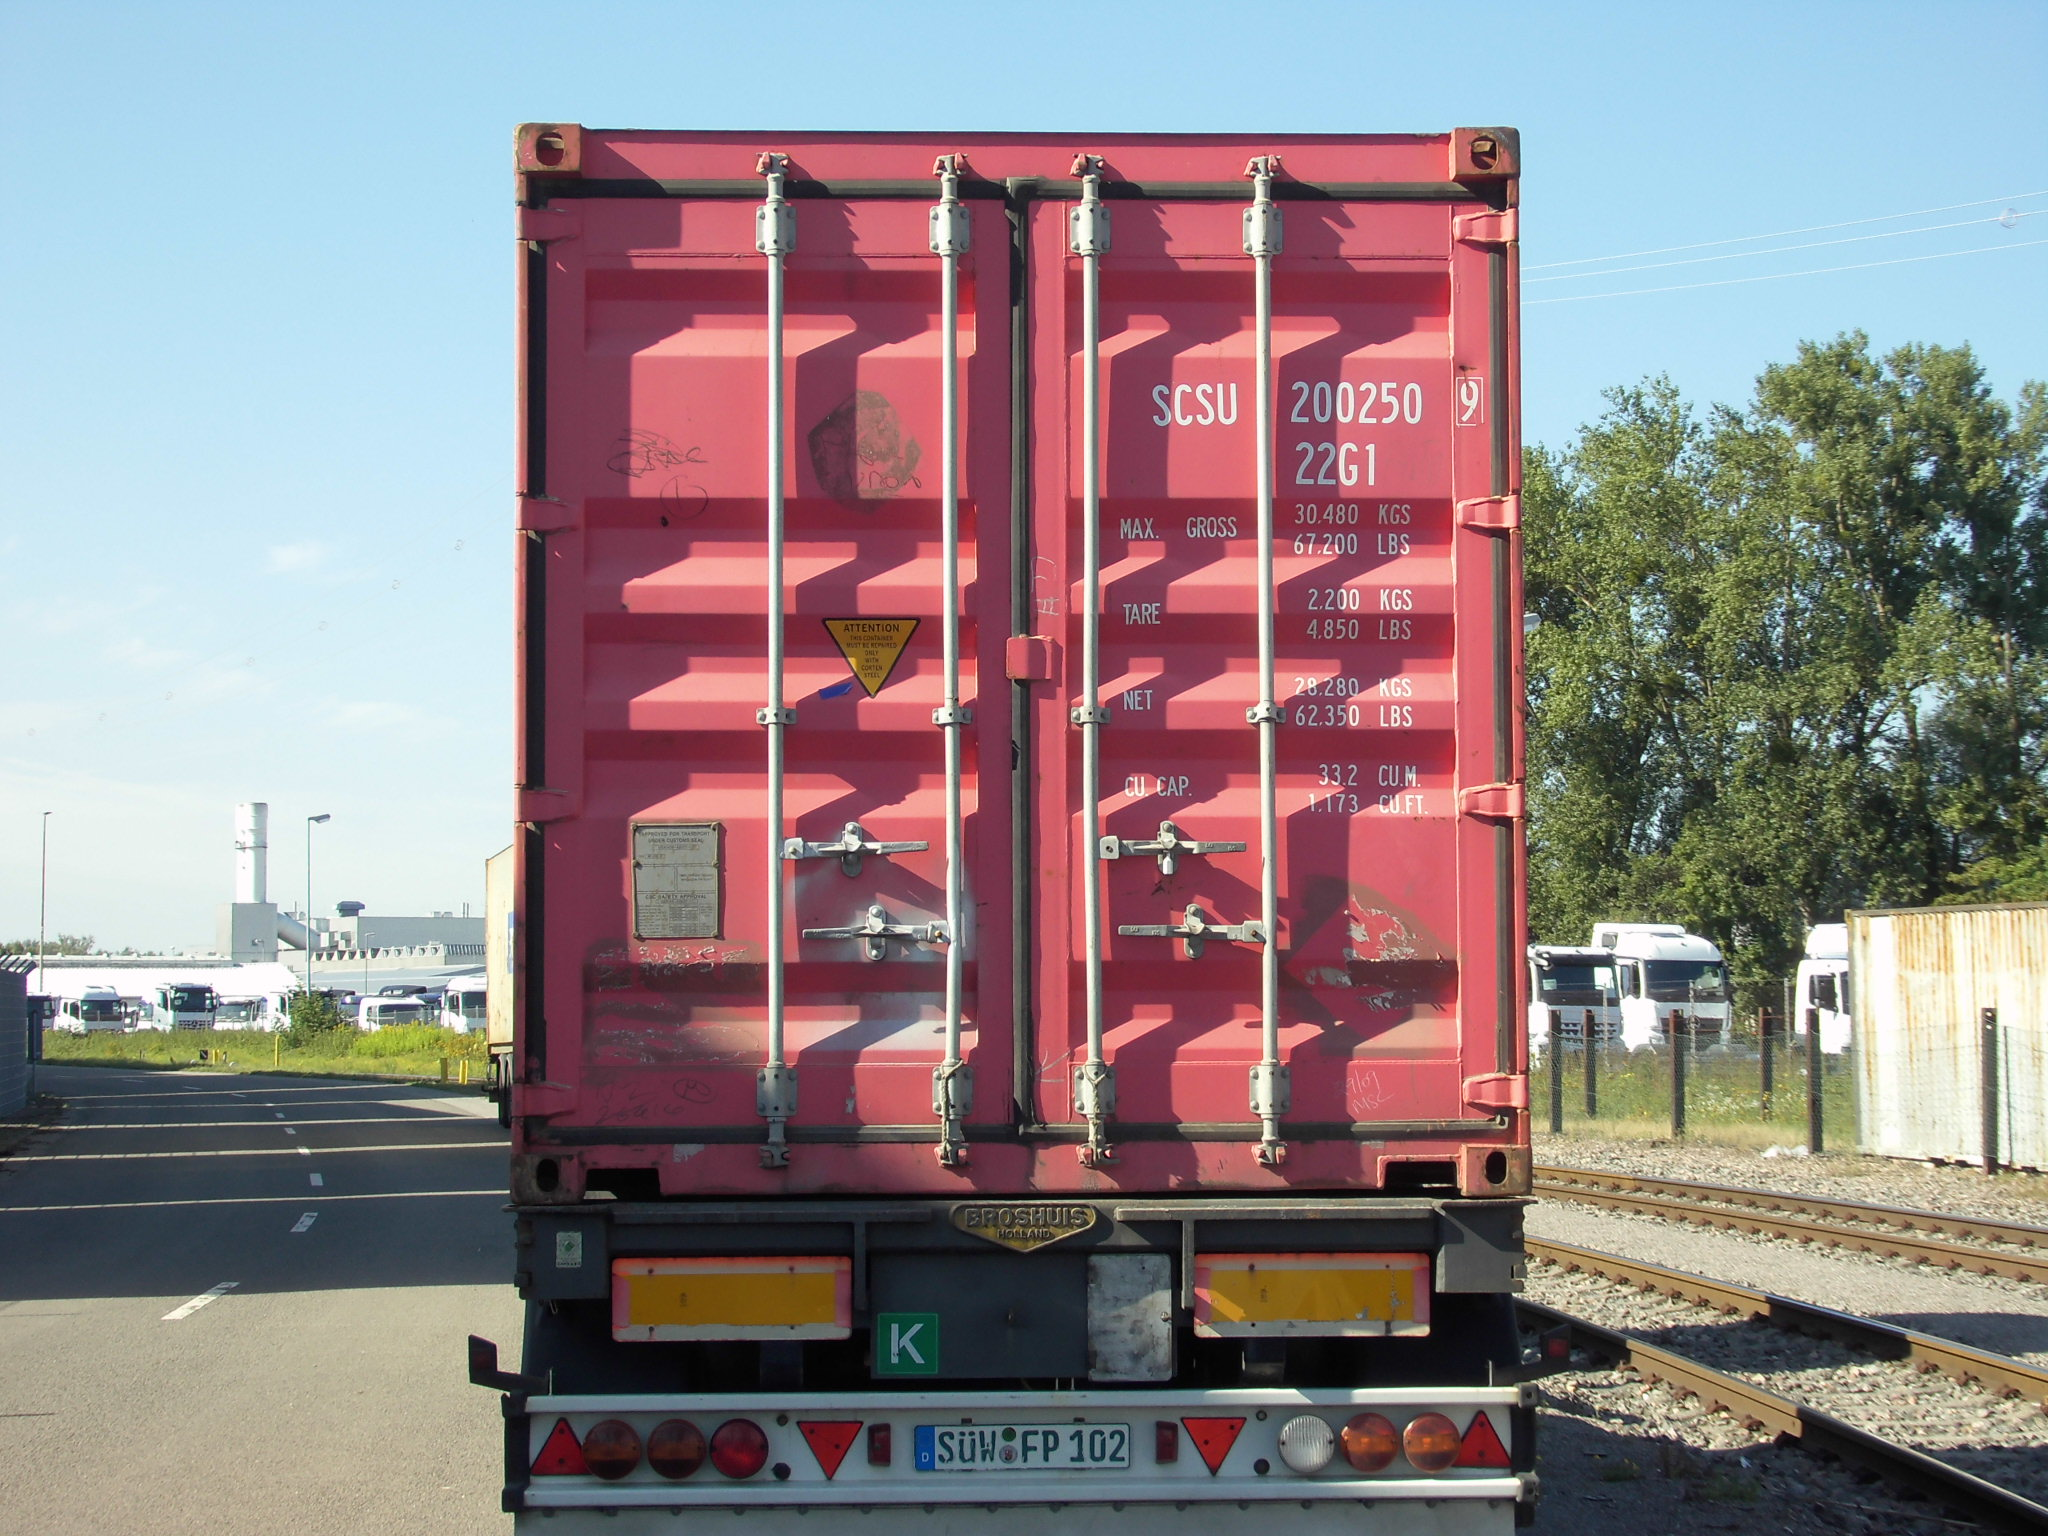container_door: (513, 116, 1538, 1200)
